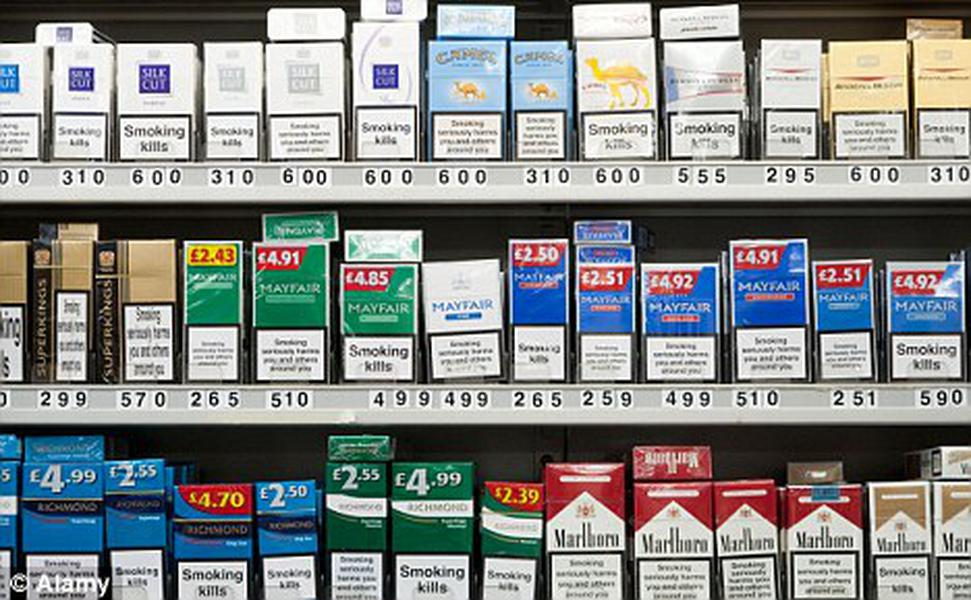marlboro_red: (547, 463, 625, 600), (637, 484, 711, 600), (791, 489, 861, 600), (716, 486, 778, 600)
